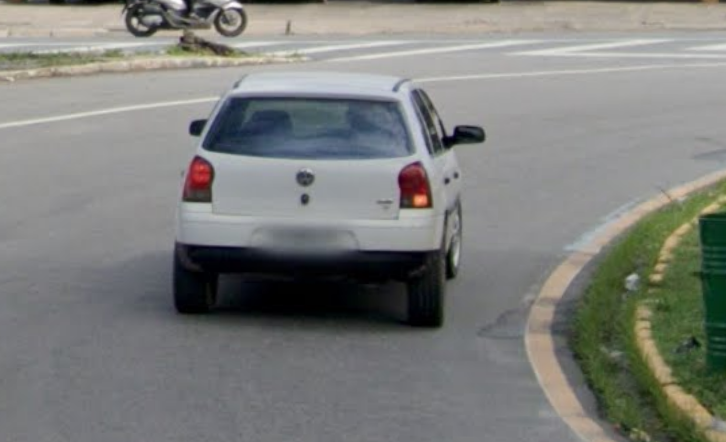car: (167, 66, 489, 335)
